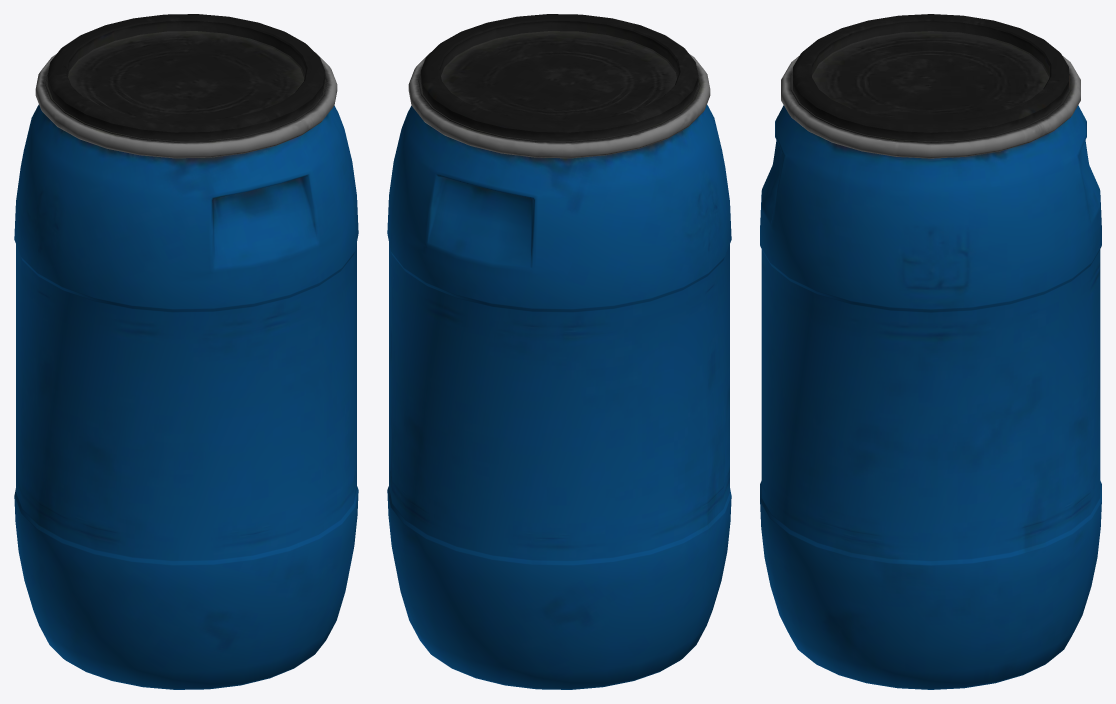
Rendered from barrel_02.glb.
3 renders of one model, left to right at view 1: azimuth 30°, elevation 25°; view 2: azimuth 150°, elevation 25°; view 3: azimuth 270°, elevation 25°, orthographic.
Parts seen in each view (by area): view 1: Barrel_02; view 2: Barrel_02; view 3: Barrel_02.
Boxes of the visible parts, left/top/right/bottom form: Barrel_02: left=14, top=14, right=358, bottom=689; Barrel_02: left=387, top=14, right=731, bottom=689; Barrel_02: left=760, top=14, right=1101, bottom=689.
Bounding box in the file's own units: 0.4882 × 0.88 × 0.4846.
Materials: 1 (1 with a texture image).
